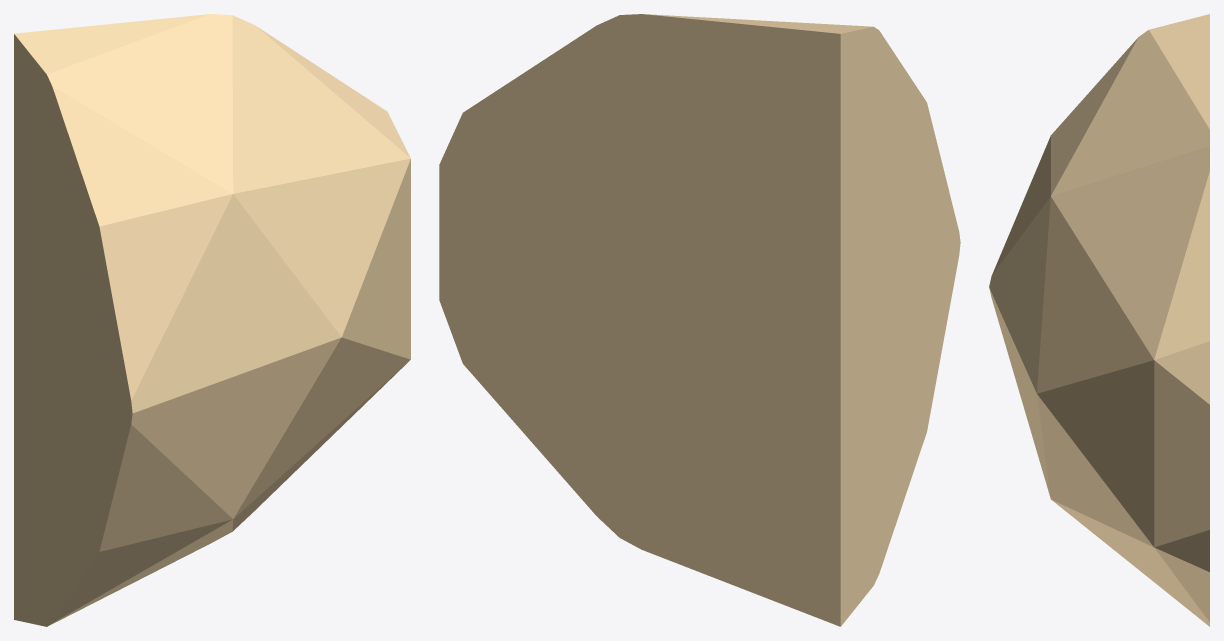
The model's file is nil_link_mesh.dae.
3 renders of one model, left to right at view 1: azimuth 30°, elevation 25°; view 2: azimuth 150°, elevation 25°; view 3: azimuth 270°, elevation 25°, orthographic. The views are drawn at different scales.
Visible parts, largest first — view 1: nil_link; view 2: nil_link; view 3: nil_link.
Boxes of the visible parts, <box> form: nil_link: <box>14,14,410,626</box>; nil_link: <box>439,14,960,626</box>; nil_link: <box>989,14,1209,626</box>.
Size of the model in its own units: 0.0383 by 0.054 by 0.0198.
